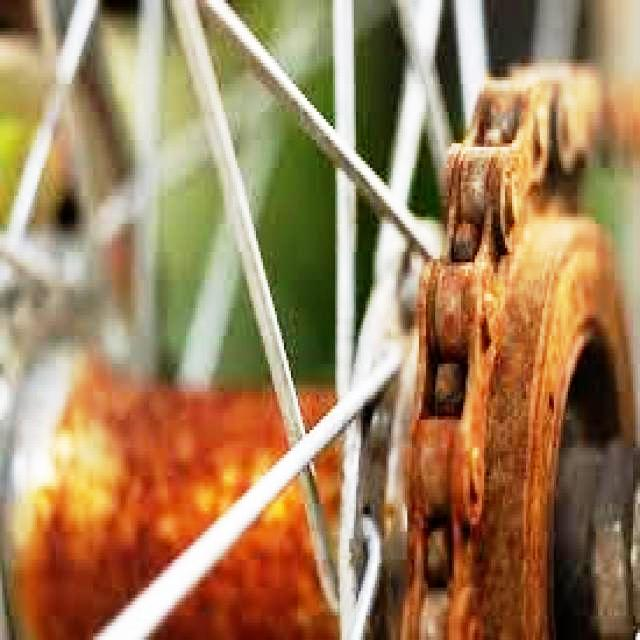Corrosion: (392, 59, 640, 640), (0, 352, 341, 640)
